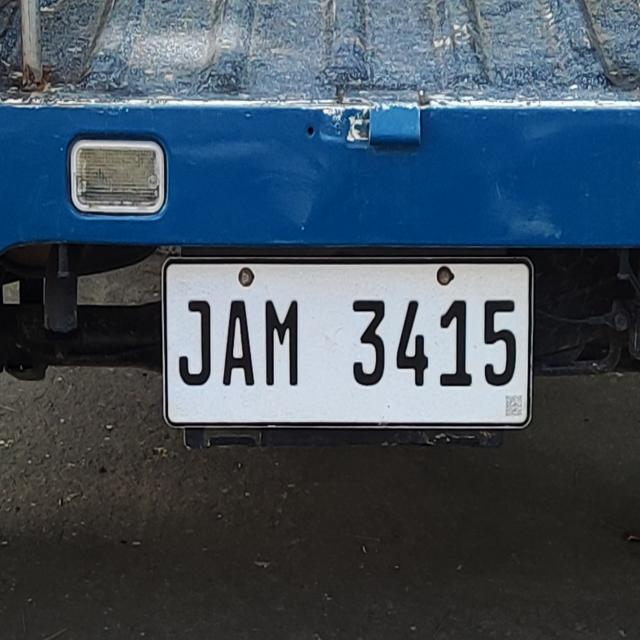plate: (158, 252, 537, 432)
